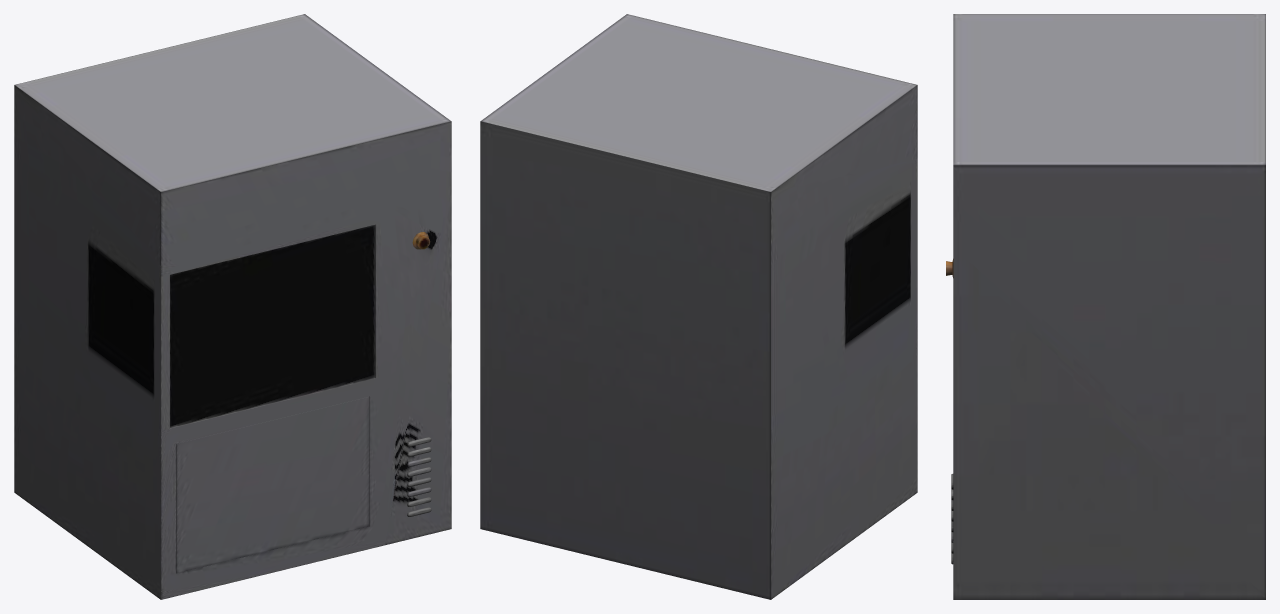
3 views of the same model, side by side, from view 1: azimuth 30°, elevation 25°; view 2: azimuth 150°, elevation 25°; view 3: azimuth 270°, elevation 25° (orthographic). The views are drawn at different scales.
Parts seen in each view (by area): view 1: 2-lite600_0; view 2: 2-lite600_0; view 3: 2-lite600_0.
Part boxes in pixels (x1,y1,x2,y2): 2-lite600_0: (14,14,451,599); 2-lite600_0: (480,14,917,599); 2-lite600_0: (946,14,1265,599).
Size of the model in its own units: 1.41 by 1.89 by 1.26.
Materials: 1 (1 with a texture image).
